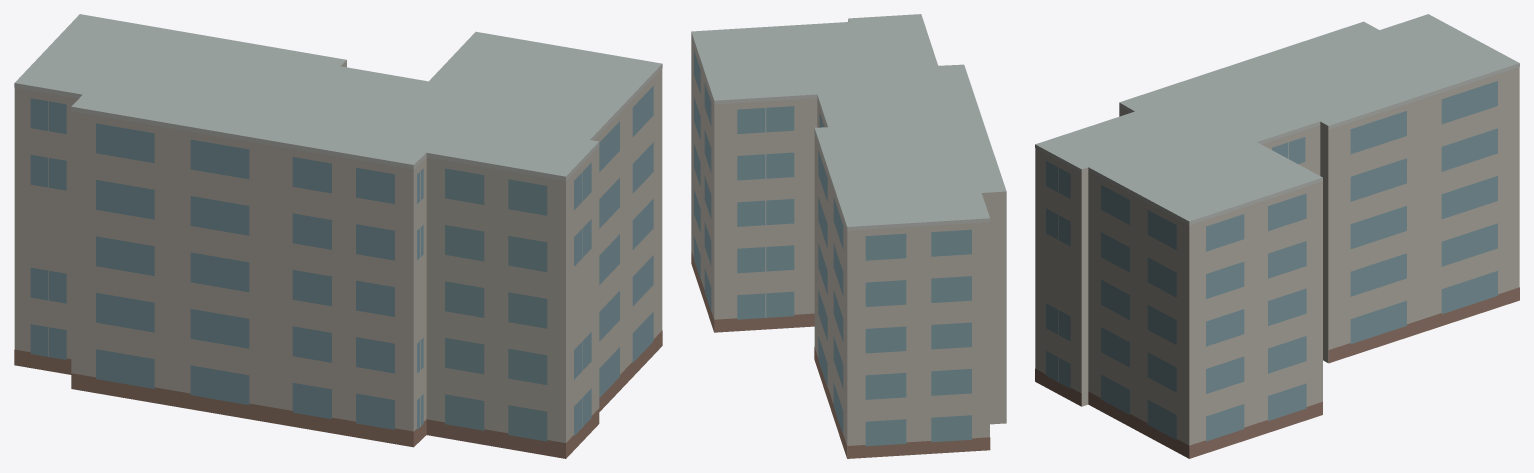
Rendered from survey-upis-32852341.glb.
3 views of the same model, side by side, from view 1: azimuth 30°, elevation 25°; view 2: azimuth 150°, elevation 25°; view 3: azimuth 270°, elevation 25° (orthographic). The views are drawn at different scales.
Visible parts, largest first — view 1: survey-upis-32852341.tmp; view 2: survey-upis-32852341.tmp; view 3: survey-upis-32852341.tmp.
Part boxes in pixels (<box>): survey-upis-32852341.tmp: <box>14,14,662,458</box>; survey-upis-32852341.tmp: <box>691,14,1006,458</box>; survey-upis-32852341.tmp: <box>1035,14,1519,458</box>.
Size of the model in its own units: 28.61 by 15.25 by 28.23.
